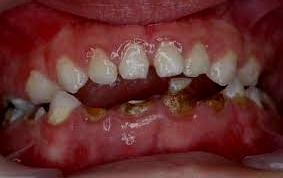Caries: (161, 78, 200, 117), (124, 95, 152, 118), (81, 104, 107, 127), (202, 91, 228, 113), (2, 100, 22, 123), (24, 107, 47, 125)
